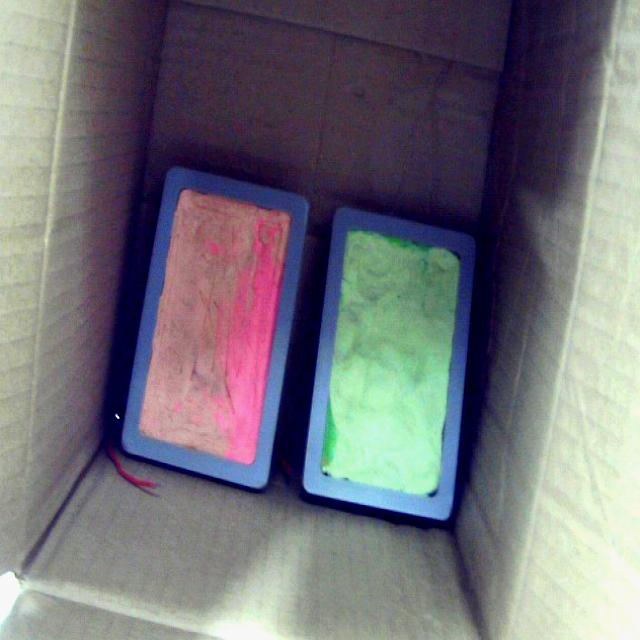block: (120, 171, 310, 494), (301, 210, 476, 526)
